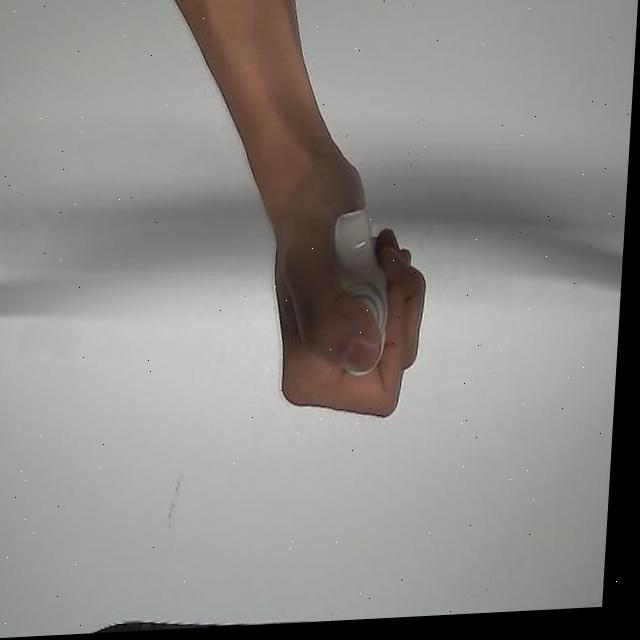Single Channel Pipettor: (323, 206, 405, 386)
